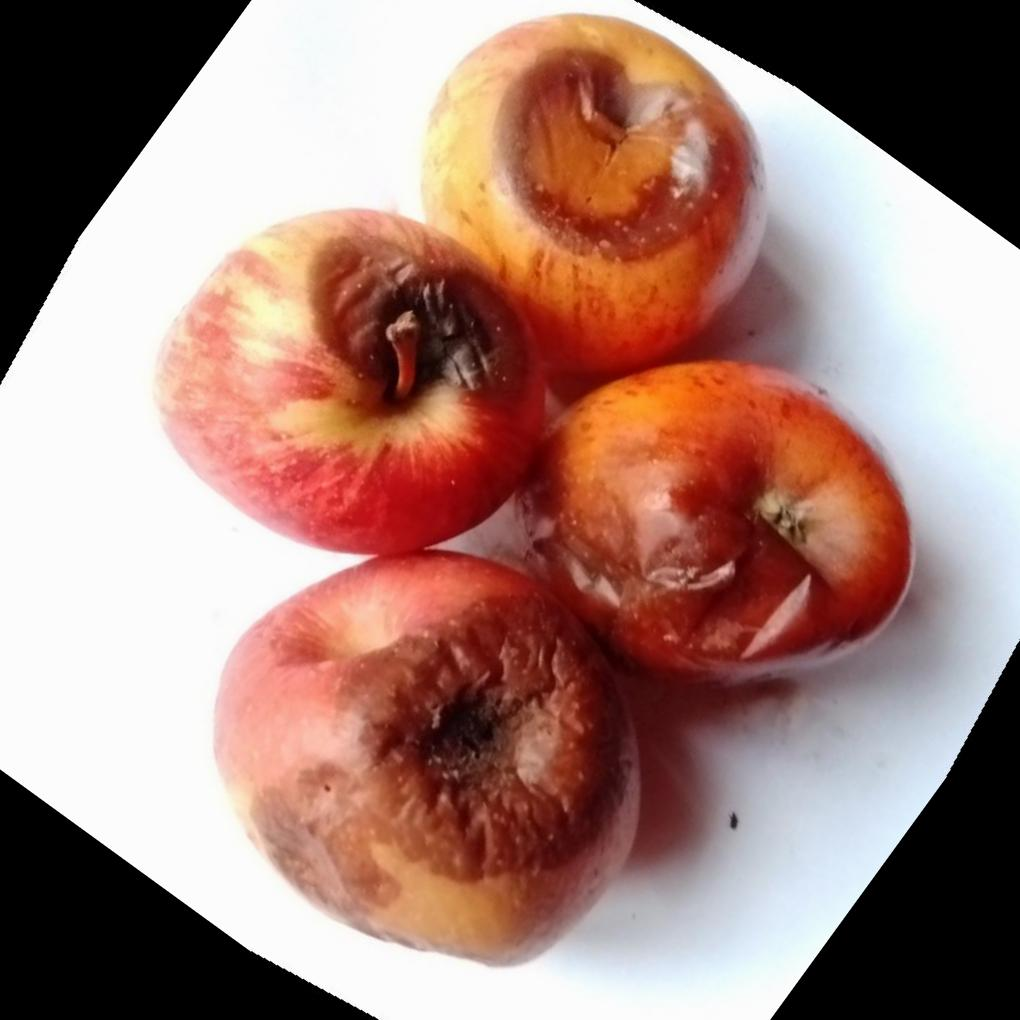FreshOrange: (151, 9, 911, 967)
